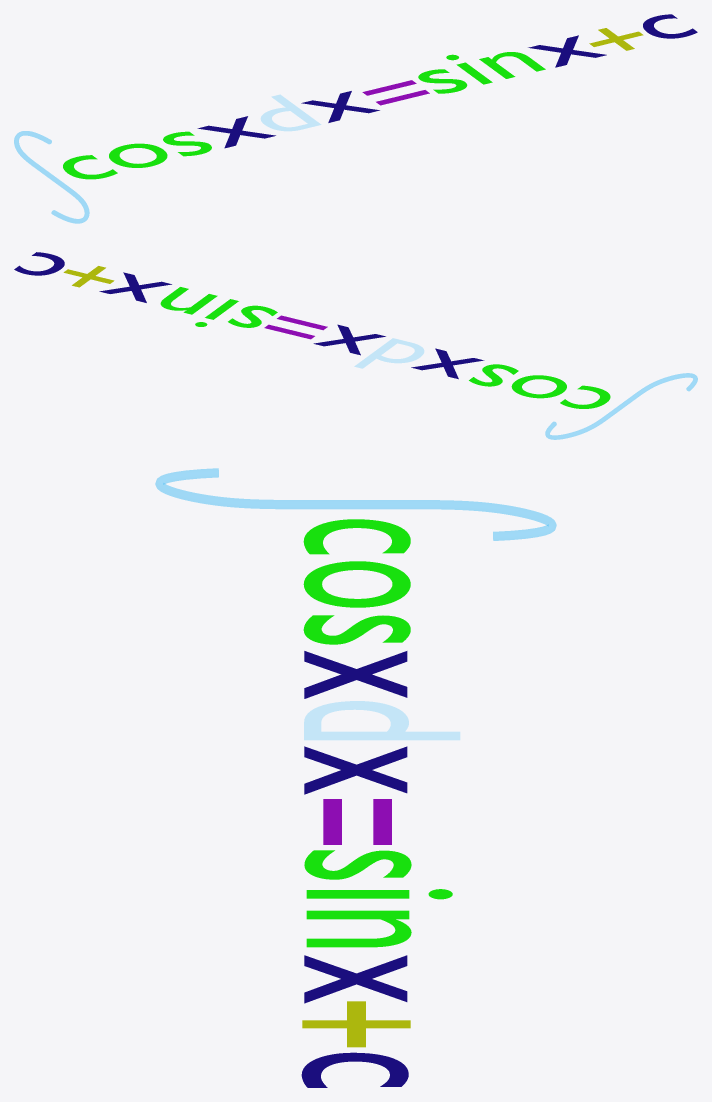
Rendered from intcosx.glb.
The picture shows the model from 3 angles, top to bottom: view 1: azimuth 30°, elevation 25°; view 2: azimuth 150°, elevation 25°; view 3: azimuth 270°, elevation 25°; orthographic projection. The views are drawn at different scales.
Visible parts, largest first — view 1: int din cos x dx; view 2: int din cos x dx; view 3: int din cos x dx.
Boxes of the visible parts, x1=… form: int din cos x dx: x1=14, y1=14, x2=697, y2=223; int din cos x dx: x1=14, y1=252, x2=697, y2=439; int din cos x dx: x1=155, y1=468, x2=556, y2=1087.
Bounding box in the file's own units: 6.36 × 0.0401 × 1.75.
